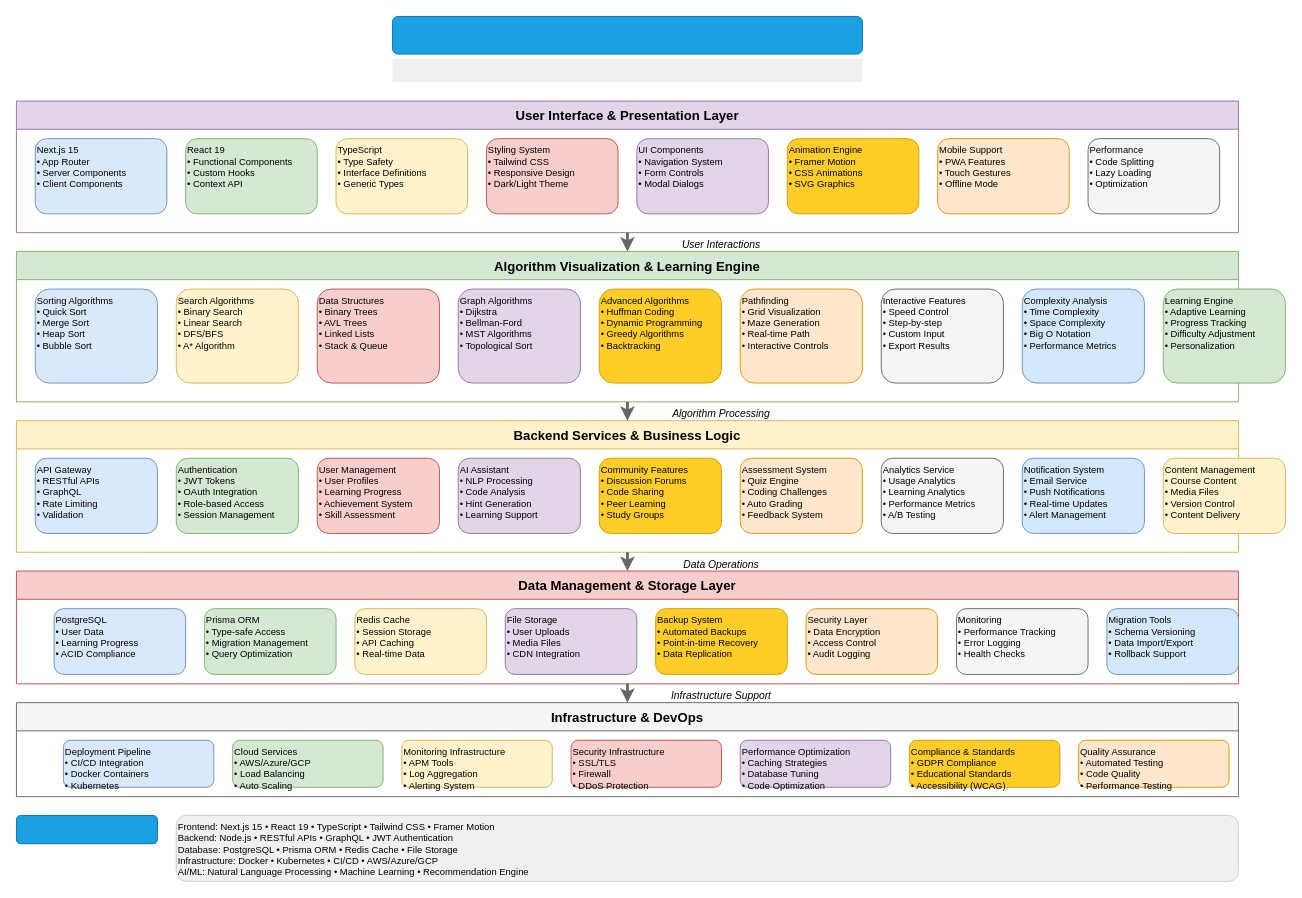
The diagram is 1302 pixels wide and 898 high, and some of its shapes have lost their labels. The shapes that lost their labels are listed below. From the top down, each one's centre as x and y in pixels, then its label:
At [627,35]: "DSA Visualizer Platform - System Architecture".
At [627,70]: "Comprehensive Educational Platform for Data Structures & Algorithms Learning".
At [86,829]: "Technology Stack".
